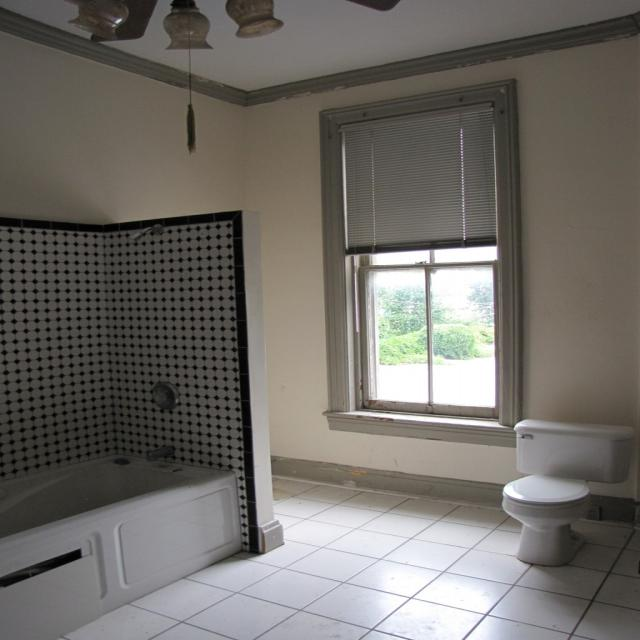Bulb: (63, 0, 394, 156)
